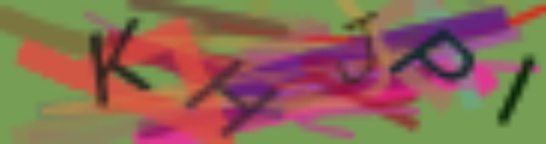H: (181, 56, 282, 139)
I: (490, 54, 535, 133)
J: (337, 32, 376, 89)
K: (86, 13, 151, 112)
P: (386, 28, 479, 84)
